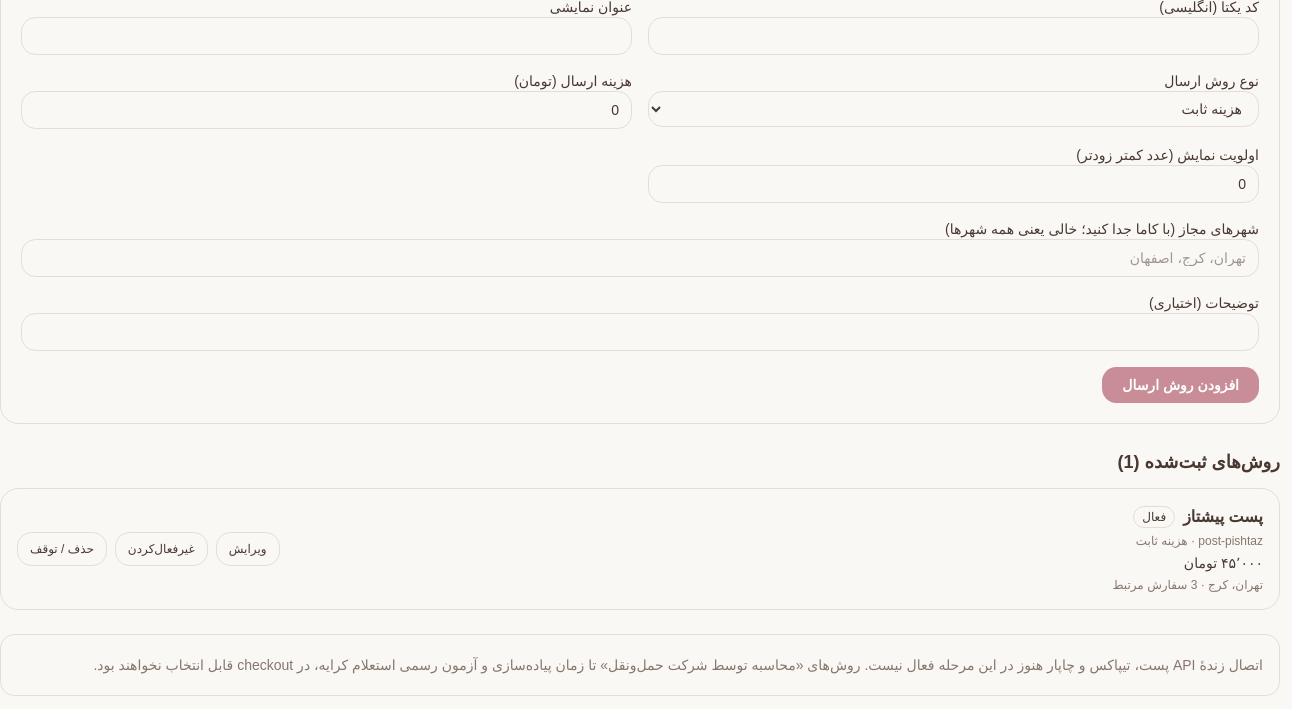
Test case: admin shipping page › clears the form when the operator cancels an edit
(page scrolled)
Click the button "ویرایش".
click(248, 549)  # box [216,532,280,566]
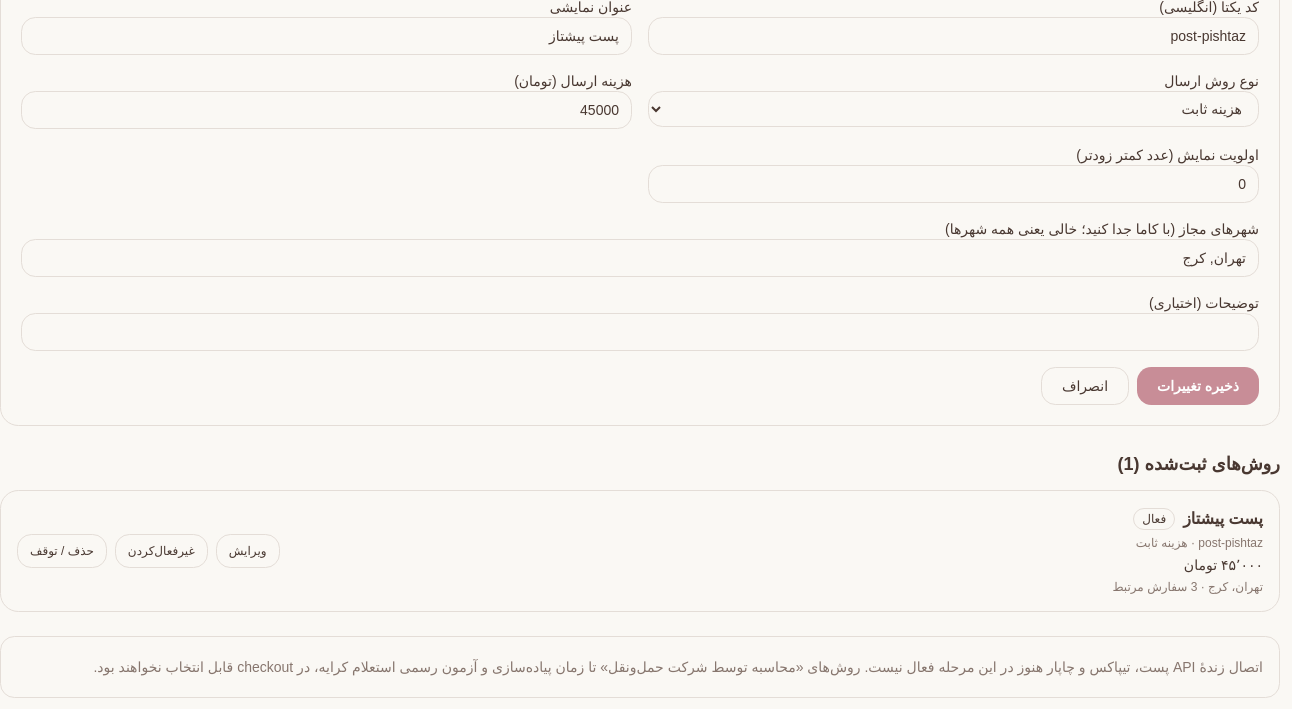
Click the button "انصراف".
click(1085, 386)  # box [1041,367,1129,405]
(page scrolled)
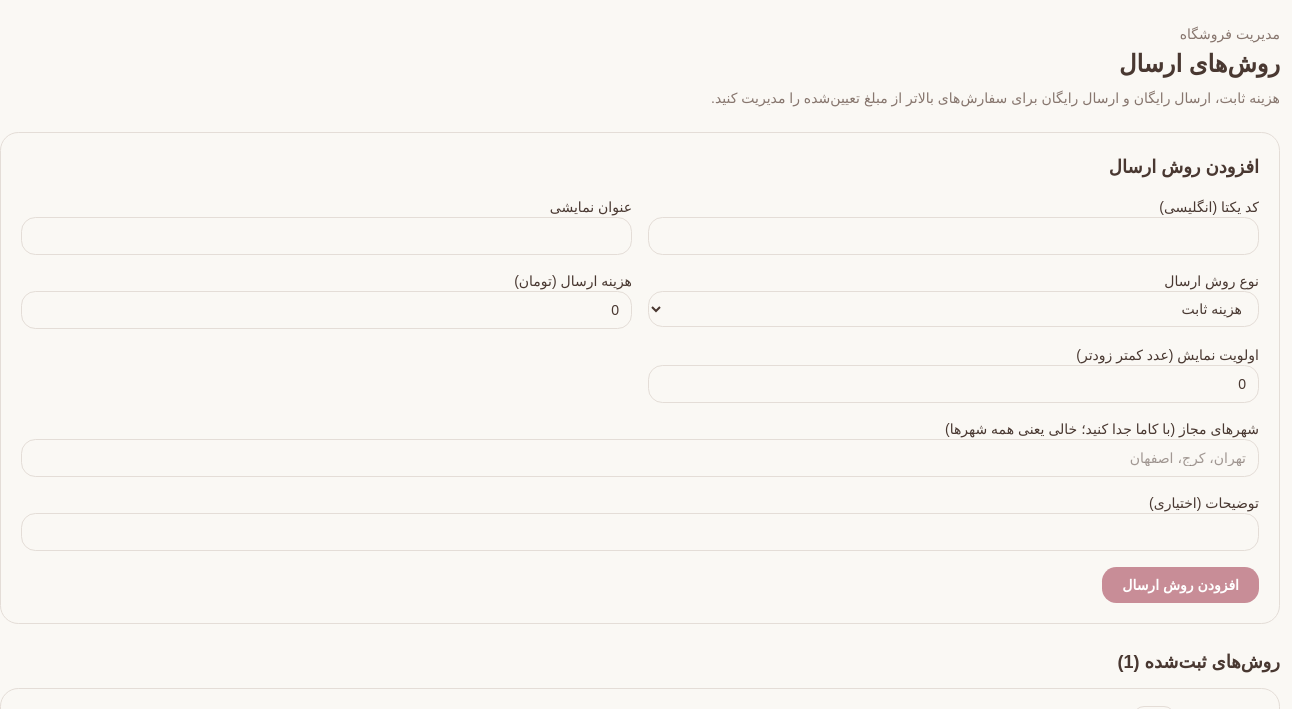
Check: the button "انصراف" is gone
Check: the field labelled "عنوان نمایشی" is empty, box [21,217,632,255]
Check: the heading "افزودن روش ارسال" is shown, box [1109,157,1259,177]
